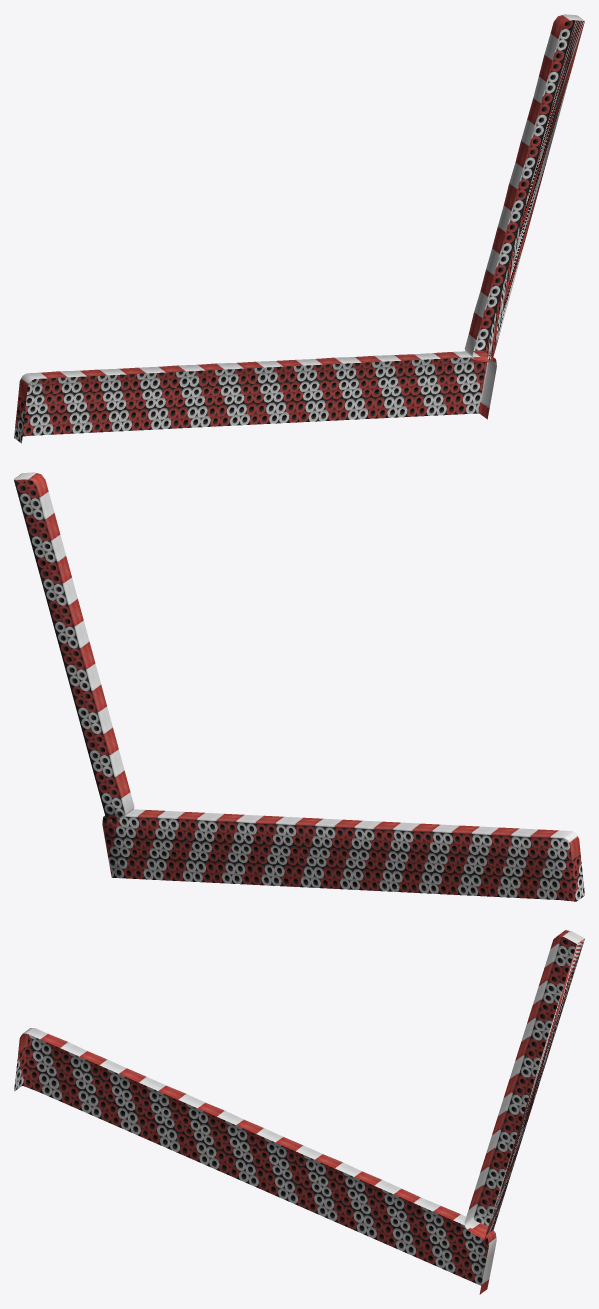
The model's file is _1WALL_tires01_01_003_Scene.377.obj.
The picture shows the model from 3 angles, top to bottom: view 1: azimuth 30°, elevation 25°; view 2: azimuth 150°, elevation 25°; view 3: azimuth 330°, elevation 25°; orthographic projection.
Parts seen in each view (by area): view 1: _1WALL_tires01_01_003_Scene.377; view 2: _1WALL_tires01_01_003_Scene.377; view 3: _1WALL_tires01_01_003_Scene.377.
Part boxes in pixels (x1,y1,x2,y2): _1WALL_tires01_01_003_Scene.377: [14, 14, 584, 443]; _1WALL_tires01_01_003_Scene.377: [14, 472, 584, 901]; _1WALL_tires01_01_003_Scene.377: [14, 930, 584, 1294].
Size of the model in its own units: 43.19 by 27.76 by 1.19.
